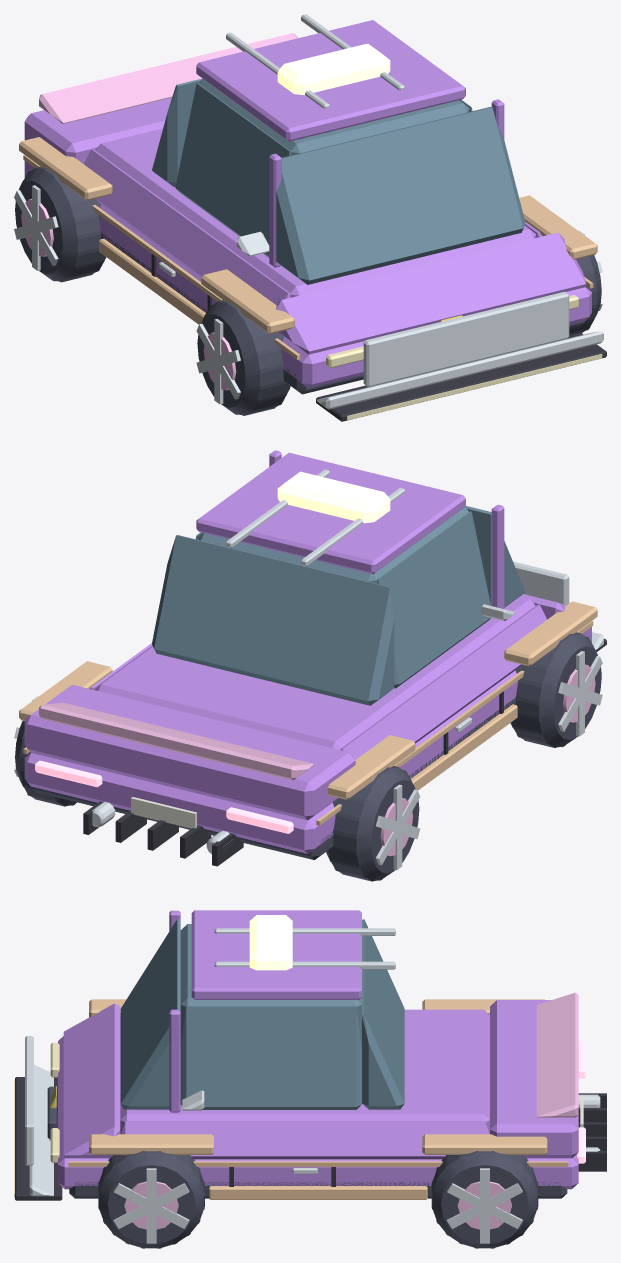
File: street_sweeper.fbx
3 views of the same model, one above another, from view 1: azimuth 30°, elevation 25°; view 2: azimuth 150°, elevation 25°; view 3: azimuth 270°, elevation 25° (orthographic). The views are drawn at different scales.
Parts seen in each view (by area): view 1: Body, Glass, Metal, Accent, Accent3, Accent2, Wheel_FR, Wheel_RR, Trim, Light3, Light, Metal2 (+2 smaller); view 2: Body, Glass, Accent, Accent3, Metal, Wheel_RR, Wheel_FR, Light3, Trim, Accent2, Light2, Trim2 (+3 smaller); view 3: Body, Glass, Accent, Metal, Wheel_FL, Wheel_RL, Accent3, Accent2, Trim, Light3, Trim2, Metal2 (+2 smaller).
Boxes of the visible parts, x1,y1,x2,y2 form: Body: (24, 20, 591, 388); Glass: (152, 78, 525, 284); Metal: (14, 185, 602, 404); Accent: (19, 137, 597, 359); Accent3: (39, 33, 297, 123); Accent2: (226, 14, 603, 409); Wheel_FR: (197, 300, 290, 415); Wheel_RR: (15, 166, 106, 282); Trim: (151, 254, 606, 421); Light3: (277, 43, 390, 94); Light: (326, 295, 602, 420); Metal2: (21, 198, 236, 390); Body: (24, 450, 591, 853); Glass: (152, 506, 525, 705); Accent: (19, 601, 597, 825); Accent3: (39, 702, 314, 780); Metal: (14, 561, 602, 870); Wheel_RR: (326, 766, 419, 881); Wheel_FR: (510, 632, 601, 747); Light3: (277, 471, 390, 523); Trim: (83, 638, 606, 866); Accent2: (226, 469, 603, 649); Light2: (35, 760, 293, 833); Trim2: (32, 698, 515, 860); Body: (58, 910, 578, 1189); Glass: (120, 919, 404, 1109); Accent: (68, 999, 568, 1199); Metal: (25, 1036, 600, 1243); Wheel_FL: (98, 1151, 204, 1248); Wheel_RL: (431, 1151, 538, 1248); Accent3: (180, 992, 578, 1117); Accent2: (29, 928, 395, 1196); Trim: (15, 1077, 606, 1200); Light3: (249, 915, 292, 970); Trim2: (47, 1086, 567, 1198); Metal2: (124, 1181, 511, 1229).
Size of the model in its own units: 3.4 by 2.34 by 5.24.
